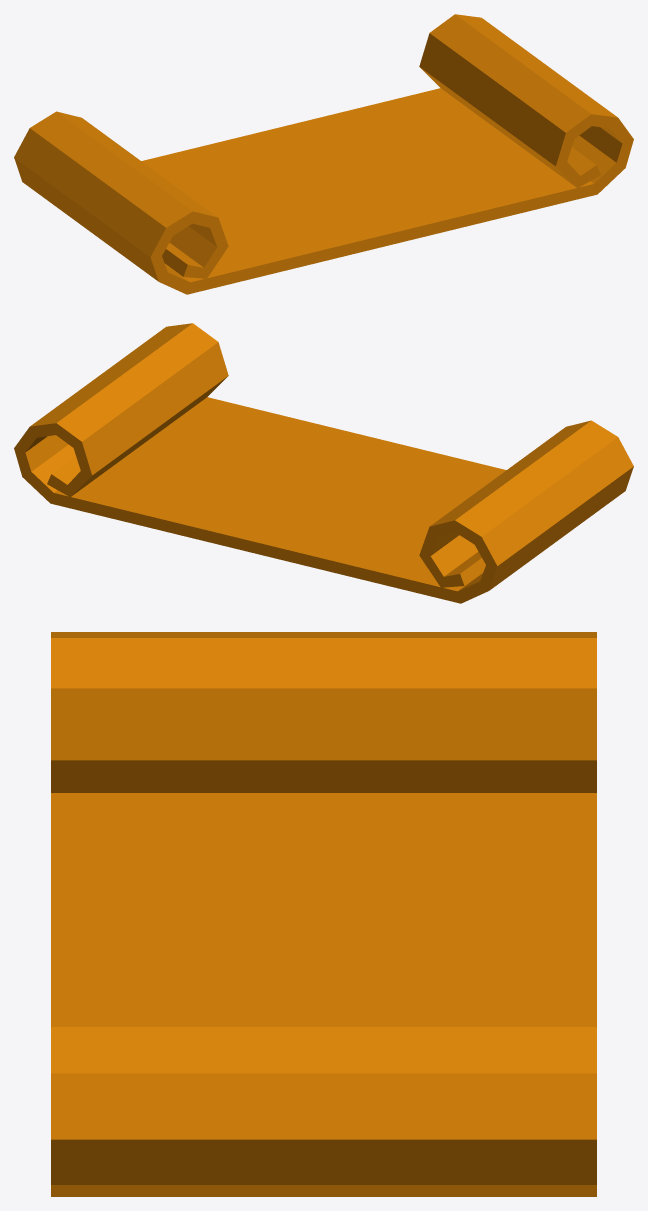
Rendered from Map_01.fbx.
The picture shows the model from 3 angles, top to bottom: view 1: azimuth 30°, elevation 25°; view 2: azimuth 150°, elevation 25°; view 3: azimuth 270°, elevation 25°; orthographic projection. The views are drawn at different scales.
Visible parts, largest first — view 1: Map_01; view 2: Map_01; view 3: Map_01.
Boxes of the visible parts, x1=… form: Map_01: x1=14, y1=14, x2=633, y2=294; Map_01: x1=14, y1=323, x2=633, y2=603; Map_01: x1=51, y1=632, x2=596, y2=1196.
Size of the model in its own units: 103 by 16.71 by 50.45.
